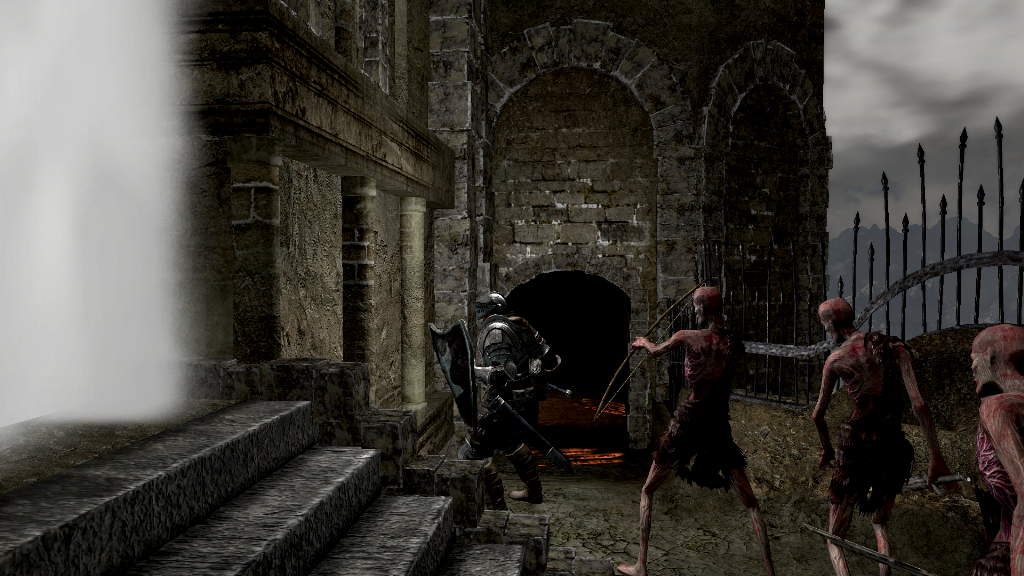hollow: (616, 285, 777, 576), (810, 295, 960, 576), (963, 322, 1024, 576)
player: (425, 292, 576, 506)
